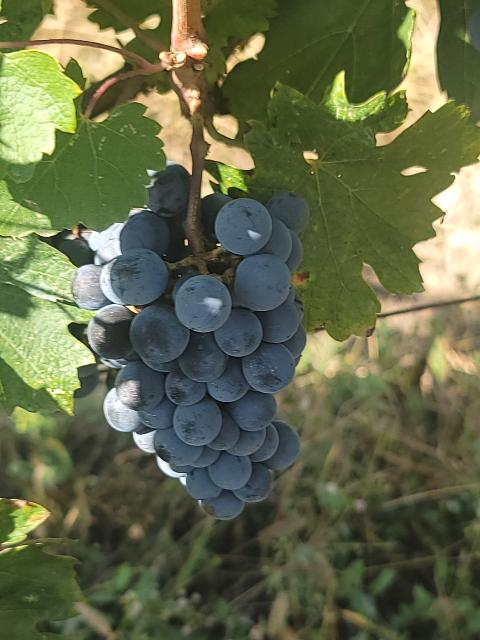grapes: (72, 165, 309, 520)
